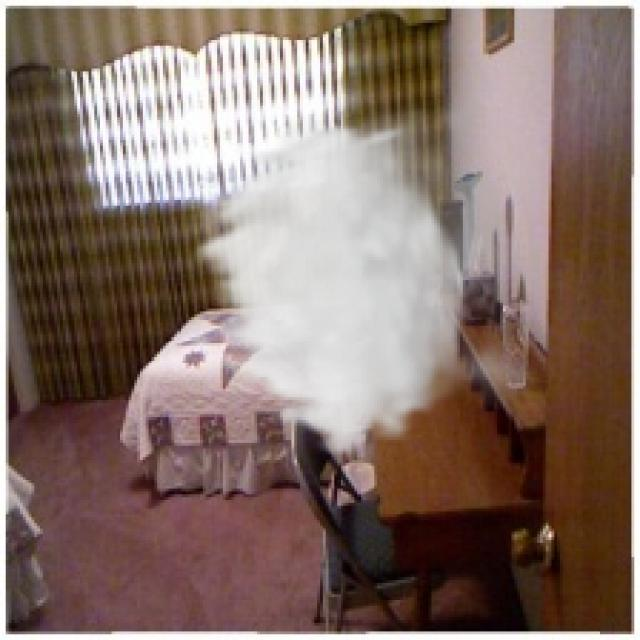smoke: (186, 51, 534, 460)
